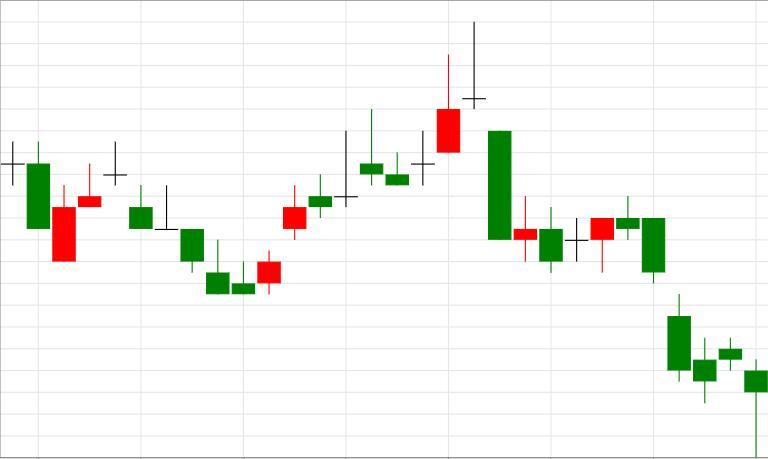evening_star_fall: (258, 21, 511, 295)
